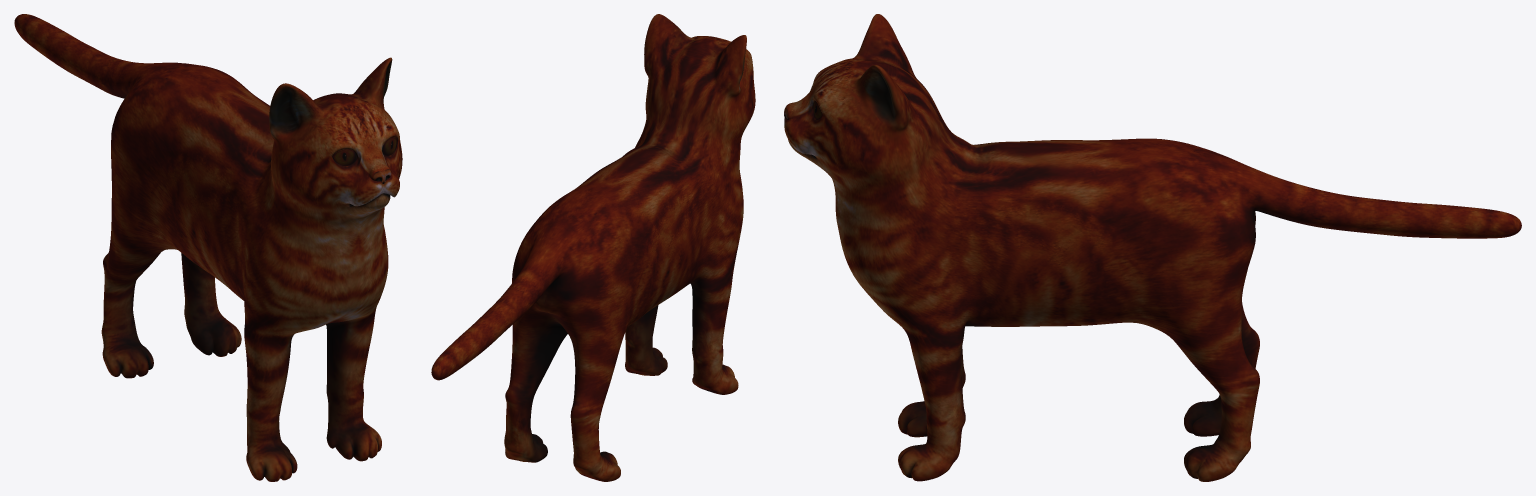
Rendered from cat-tabby.glb.
The picture shows the model from 3 angles, left to right: view 1: azimuth 30°, elevation 25°; view 2: azimuth 150°, elevation 25°; view 3: azimuth 270°, elevation 25°; orthographic projection. The views are drawn at different scales.
Visible parts, largest first — view 1: Tabby_Cat_Body; view 2: Tabby_Cat_Body; view 3: Tabby_Cat_Body.
Boxes of the visible parts, left/top/right/bottom form: Tabby_Cat_Body: left=14, top=14, right=402, bottom=481; Tabby_Cat_Body: left=431, top=14, right=755, bottom=481; Tabby_Cat_Body: left=784, top=14, right=1521, bottom=481.
Bounding box in the file's own units: 0.9348 × 2.8 × 4.53.
1 material, 1 textured.
